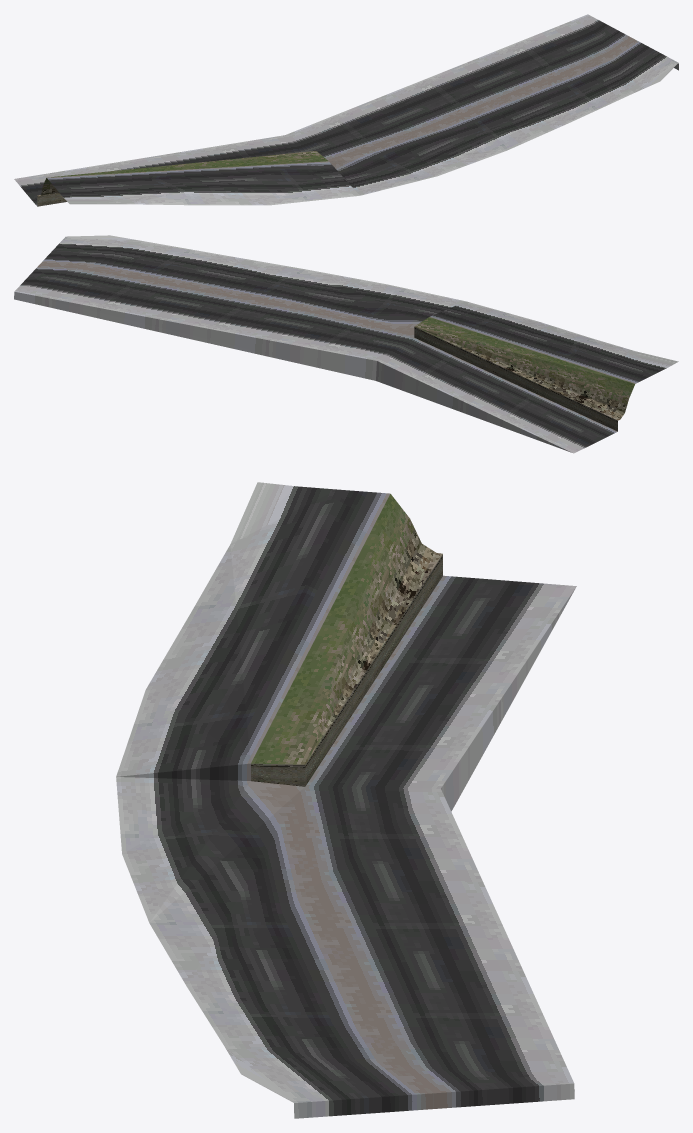
File: lodcunte_roads45.obj
The picture shows the model from 3 angles, top to bottom: view 1: azimuth 30°, elevation 25°; view 2: azimuth 150°, elevation 25°; view 3: azimuth 270°, elevation 25°; orthographic projection. The views are drawn at different scales.
Visible parts, largest first — view 1: LODcunte_roads45; view 2: LODcunte_roads45; view 3: LODcunte_roads45.
Boxes of the visible parts, box(x1,y1,x2,y2) form: LODcunte_roads45: box(14, 14, 678, 206); LODcunte_roads45: box(14, 235, 678, 453); LODcunte_roads45: box(116, 482, 576, 1118).
Size of the model in its own units: 172 by 13.22 by 56.92.
Materials: 3 (3 with a texture image).
